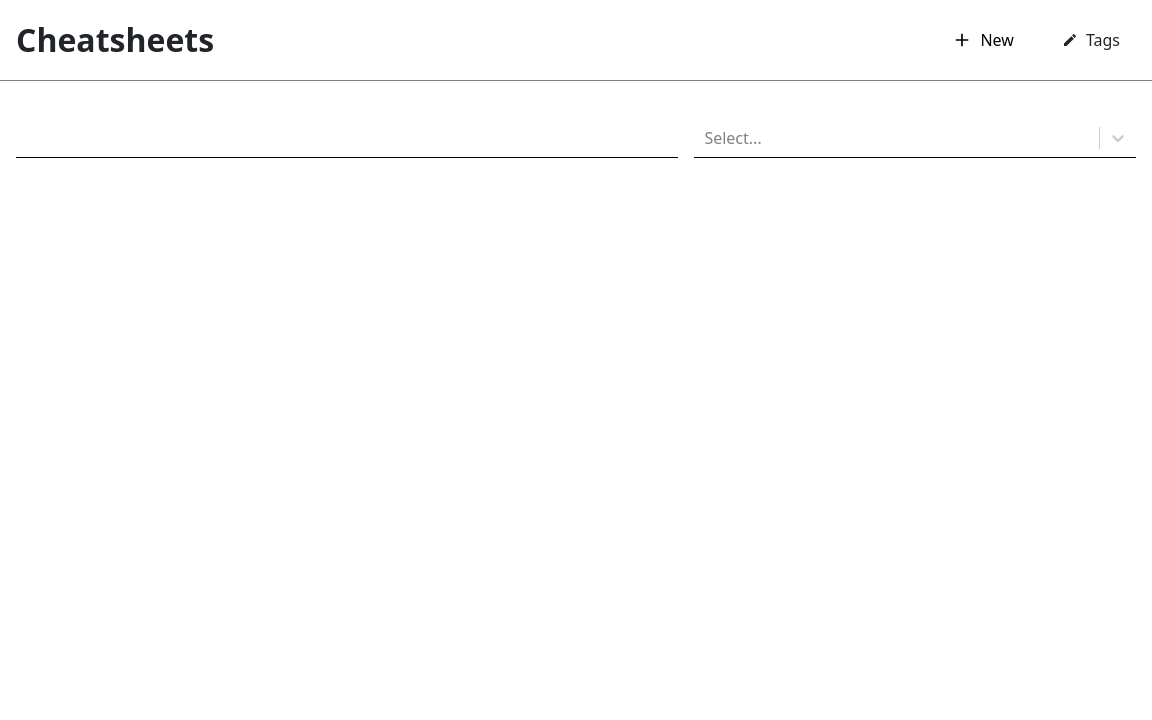
Test: View › View New Note
Click the element with class "navbar-item" showing "New" at (983,40), box [952,29,1014,51]
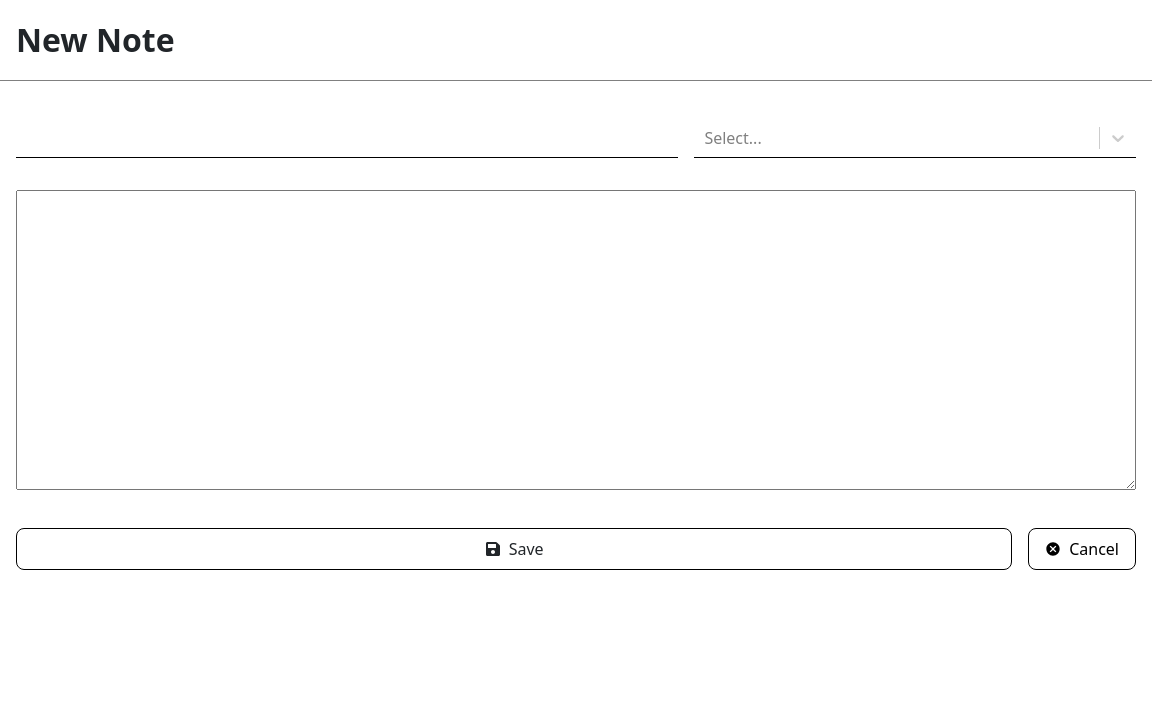
expect the text "New Note" is shown: met, box [16,16,175,64]
Type "title 1" into the field with class "title-input" at (347,128), box [16,97,678,158]
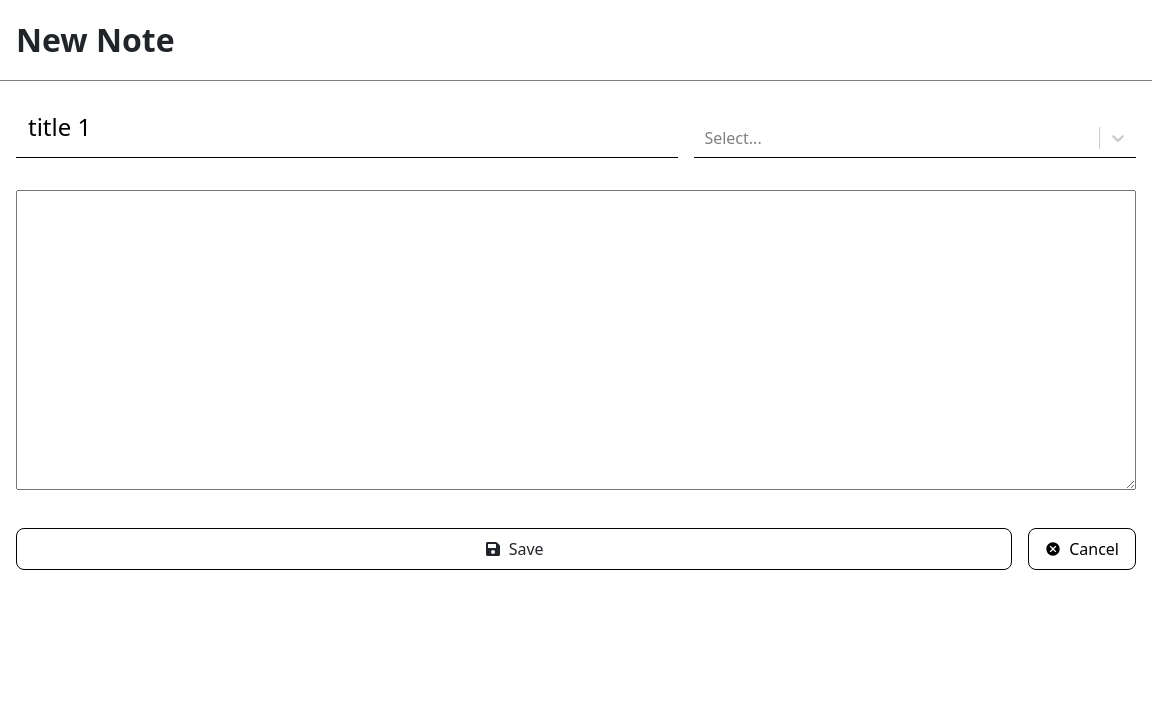
Type "markdown 1" into the text box with class "markdown-input" at (576,340), box [16,190,1136,490]
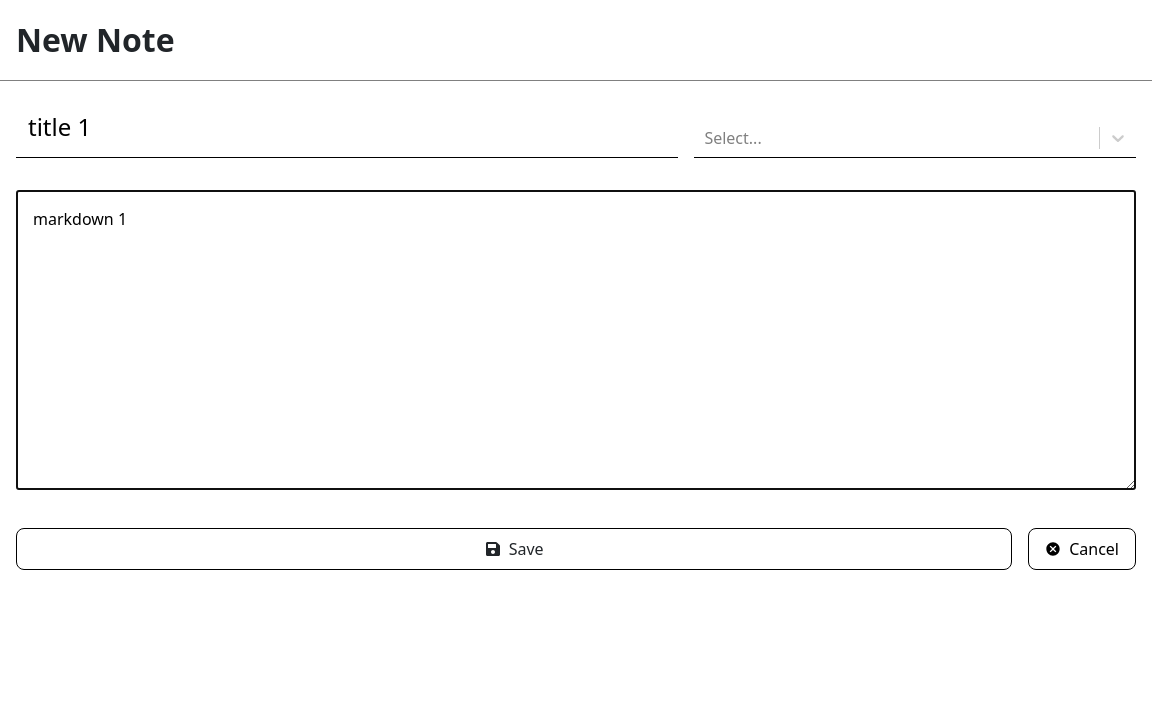
Click the button with class "save-btn" at (514,549), box [16,528,1012,570]
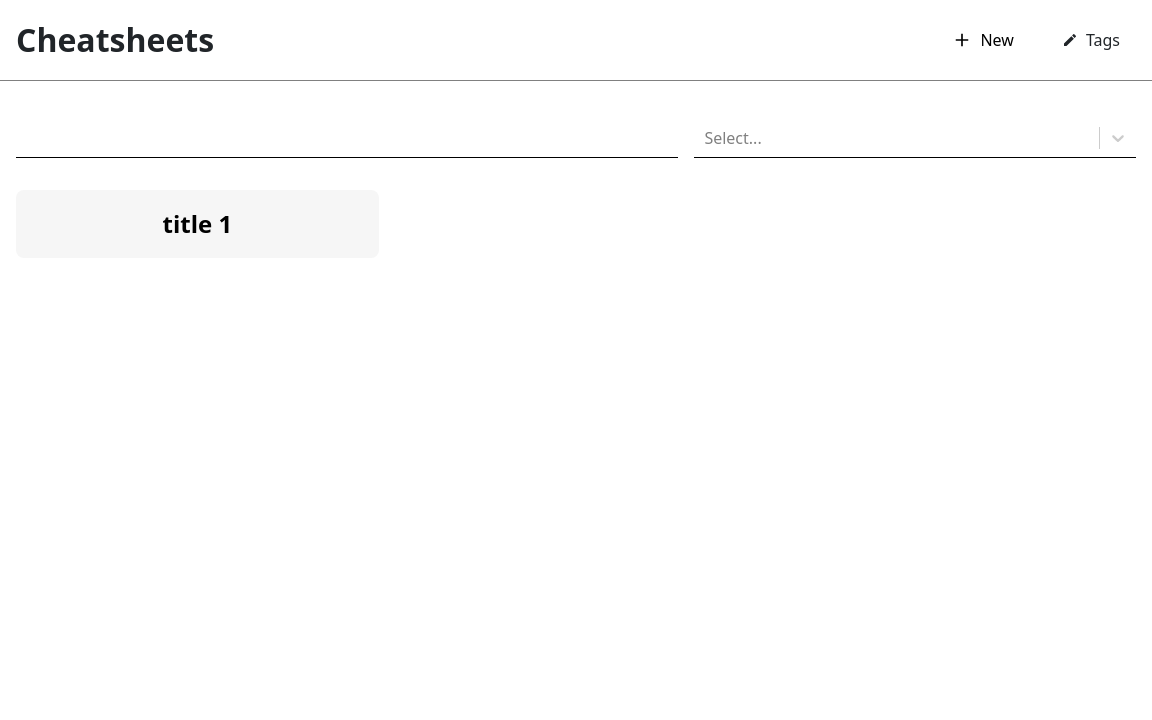
Click the element with class "note-item" at (198,224), box [16,190,379,258]
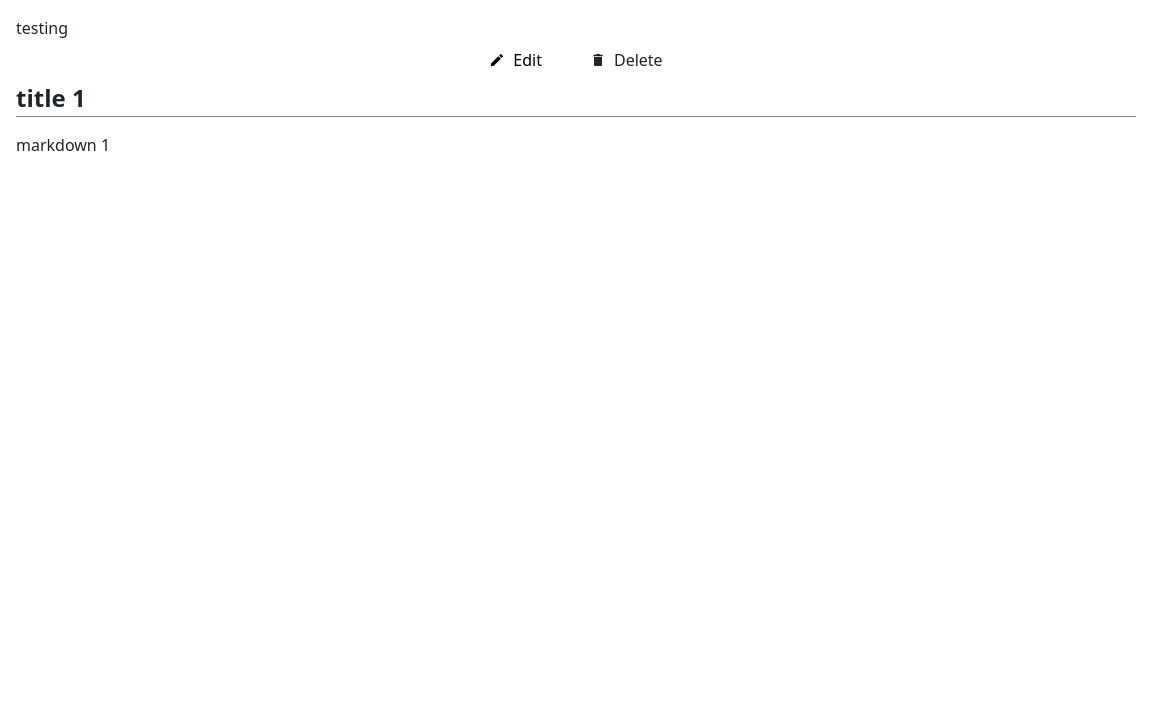
expect the text with class "note-title" reads "title 1": met, box [16,81,86,114]
expect the element with class "note-option-item" showing "Edit" is shown: met, box [489,49,542,71]
expect the element showing "Delete" is shown: met, box [590,49,663,71]
